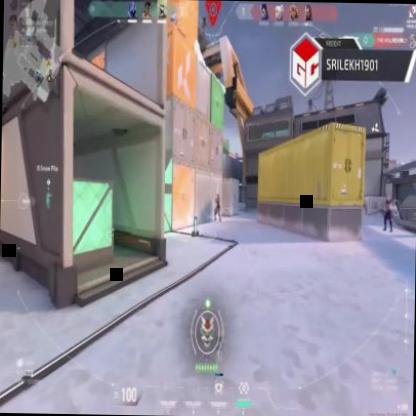enemy: (382, 194, 393, 232), (213, 192, 220, 221)
enemy_head: (386, 195, 390, 204), (216, 192, 219, 199)
